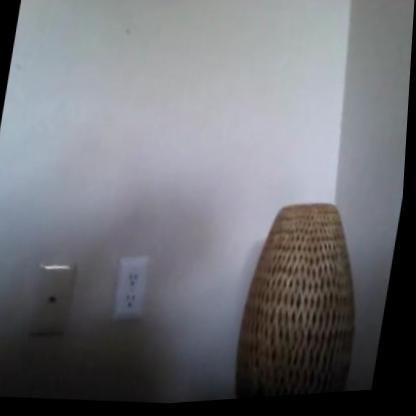OUTLET: (112, 254, 150, 320)
